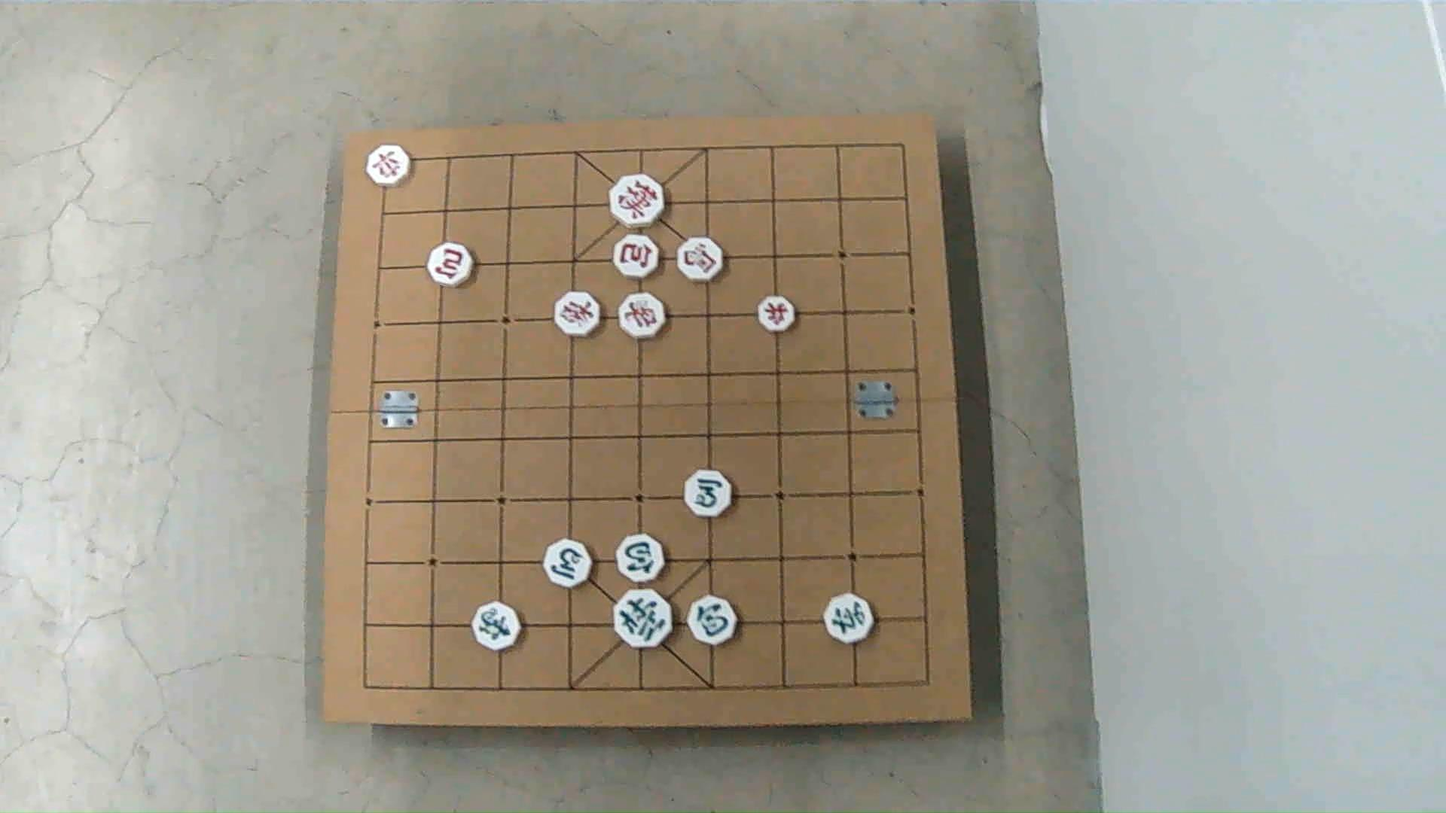cha_green: (824, 593, 873, 642)
cha_red: (367, 144, 411, 185)
jol_red: (758, 294, 796, 331)
ma_green: (542, 540, 591, 589), (684, 470, 731, 516)
ma_red: (680, 239, 727, 283)
po_green: (688, 595, 737, 645), (617, 534, 666, 583)
po_red: (614, 233, 660, 278), (429, 243, 475, 286)
sang_green: (471, 601, 520, 649)
sang_red: (619, 293, 666, 339), (554, 294, 600, 338)
wang_green: (615, 590, 675, 650)
wang_red: (610, 175, 666, 228)
